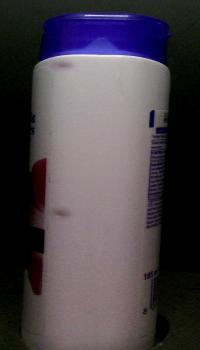dent_marginal: (52, 206, 78, 230), (52, 59, 76, 73)
